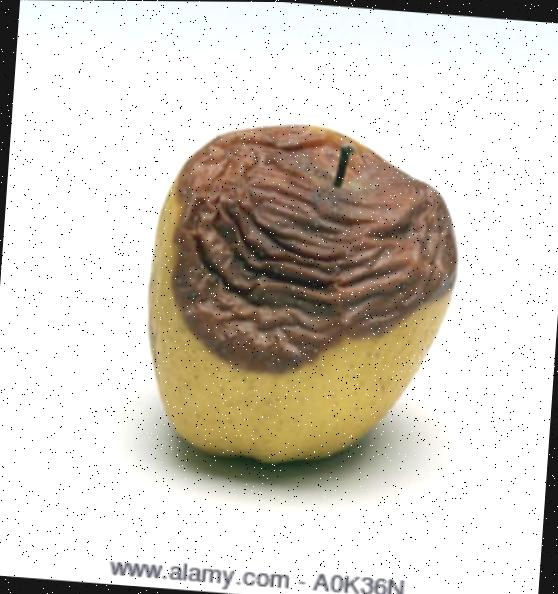ROT: (121, 94, 487, 486)
